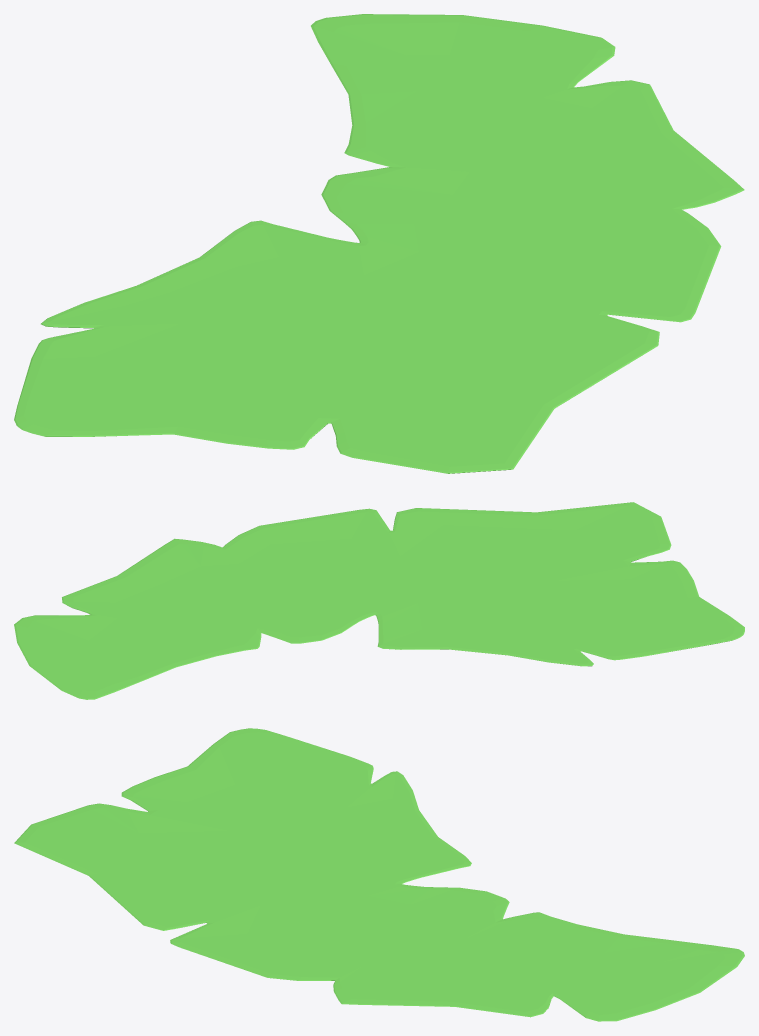
File: Island_2_Grass.fbx
3 views of the same model, one above another, from view 1: azimuth 30°, elevation 25°; view 2: azimuth 150°, elevation 25°; view 3: azimuth 270°, elevation 25° (orthographic). The views are drawn at different scales.
Visible parts, largest first — view 1: Island_2_Grass; view 2: Island_2_Grass; view 3: Island_2_Grass.
Boxes of the visible parts, left/top/right/bottom form: Island_2_Grass: left=14, top=14, right=744, bottom=473; Island_2_Grass: left=14, top=502, right=744, bottom=699; Island_2_Grass: left=14, top=728, right=744, bottom=1021.
Bounding box in the file's own units: 4031 × 4.62 × 4249.
